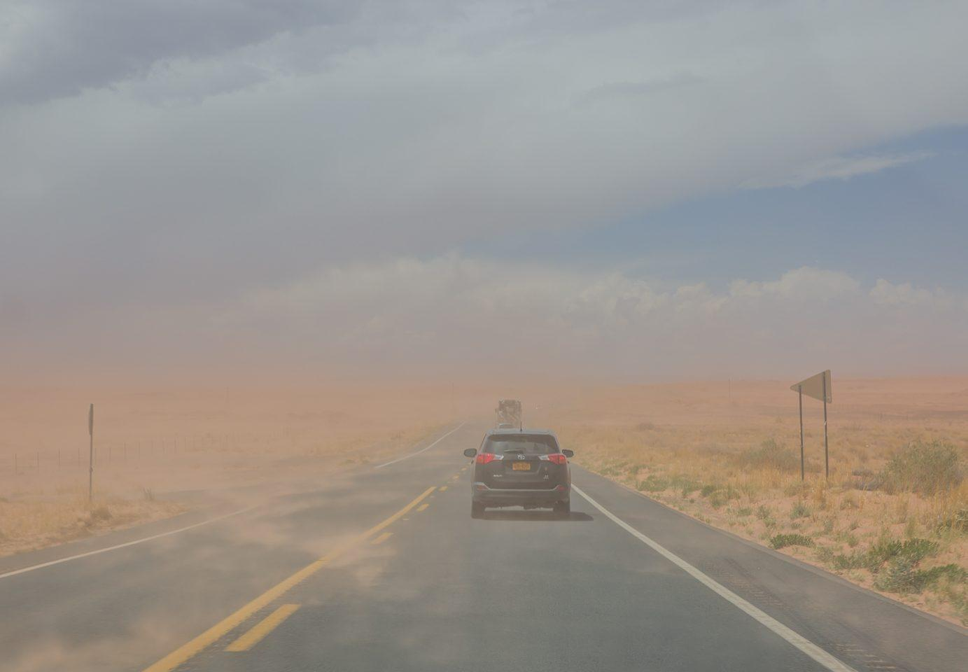bus: (492, 398, 525, 437)
car: (462, 428, 577, 522), (496, 422, 519, 442)
